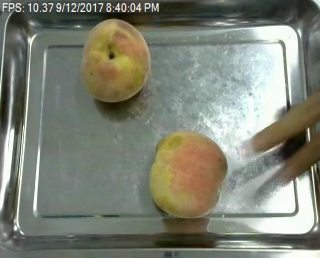Peach: (148, 129, 226, 218), (80, 18, 151, 103)
